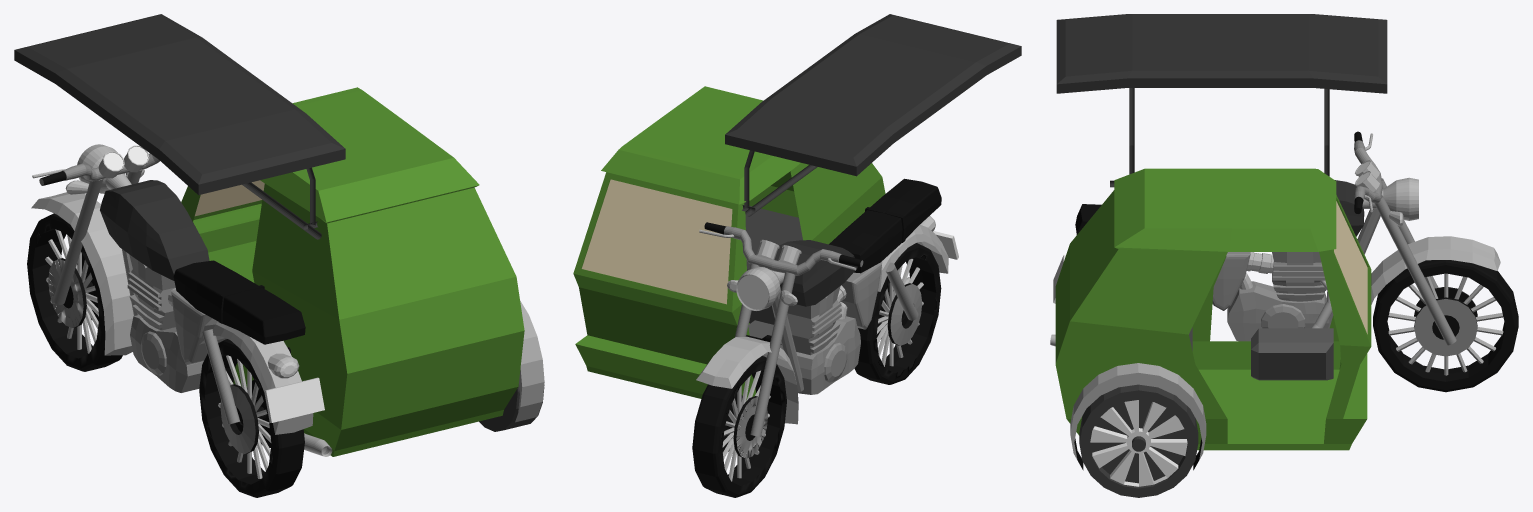
The model's file is tricy 3.fbx.
3 views of the same model, side by side, from view 1: azimuth 30°, elevation 25°; view 2: azimuth 150°, elevation 25°; view 3: azimuth 270°, elevation 25° (orthographic). The views are drawn at different scales.
Visible parts, largest first — view 1: Cylinder.004; view 2: Cylinder.004; view 3: Cylinder.004.
Part boxes in pixels (x1,y1,x2,y2): Cylinder.004: (14, 14, 544, 497); Cylinder.004: (573, 14, 1021, 497); Cylinder.004: (1050, 14, 1518, 497).
Bounding box in the file's own units: 1807 × 1778 × 2258.
